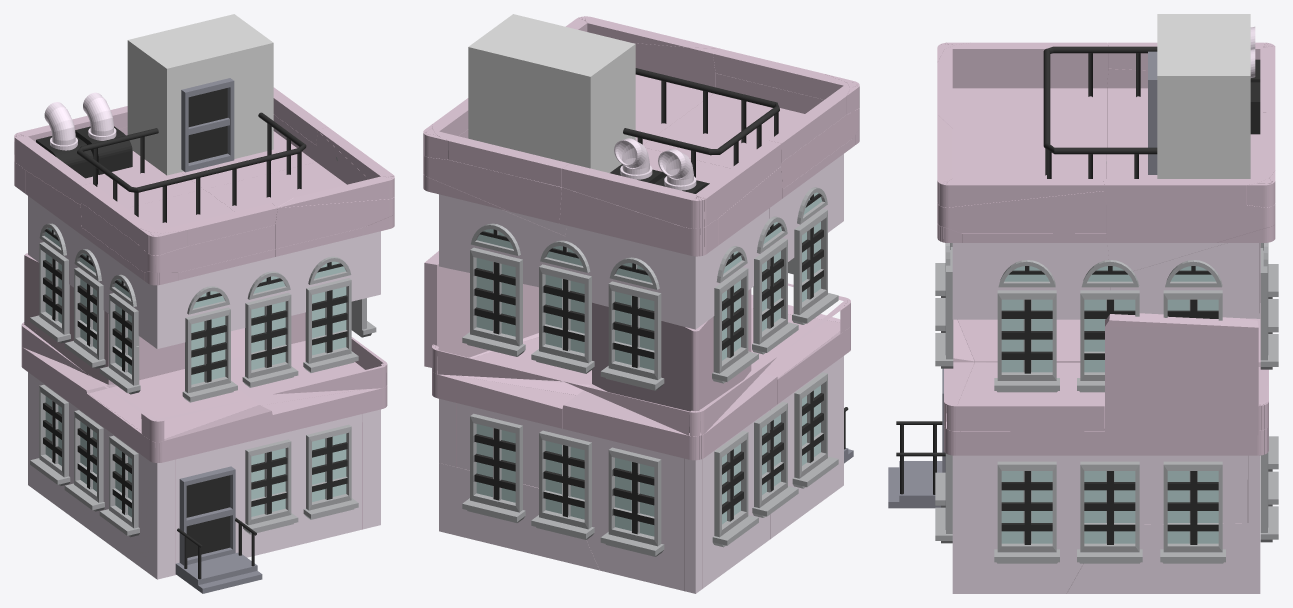
File: parcalananTekkatlbina.fbx
3 renders of one model, left to right at view 1: azimuth 30°, elevation 25°; view 2: azimuth 150°, elevation 25°; view 3: azimuth 270°, elevation 25°, orthographic. The views are drawn at different scales.
Visible parts, largest first — view 1: Cube.158, kolonlar_cell.006, kolonlar_cell.031, kolonlar_cell.063, kolonlar_cell.045, kolonlar_cell.040, kolonlar_cell.050, kolonlar_cell.033, kolonlar_cell.087, kolonlar_cell.058, kolonlar_cell.078, Cube.160 (+54 smaller); view 2: Cube.158, kolonlar_cell.033, kolonlar_cell.090, kolonlar_cell.040, kolonlar_cell.054, kolonlar_cell.006, kolonlar_cell.084, kolonlar_cell.078, kolonlar_cell.002, kolonlar_cell.047, kolonlar_cell.098, kolonlar_cell.031 (+48 smaller); view 3: kolonlar_cell.058, kolonlar_cell.056, Cube.158, kolonlar_cell.040, kolonlar_cell.031, kolonlar_cell.087, kolonlar_cell.023, kolonlar_cell.002, kolonlar_cell.079, kolonlar_cell.015, kolonlar_cell.028, kolonlar_cell.098 (+41 smaller).
Part boxes in pixels (x1,y1,x2,y2): Cube.158: (127, 14, 273, 175); kolonlar_cell.006: (88, 369, 258, 579); kolonlar_cell.031: (205, 131, 394, 248); kolonlar_cell.063: (261, 387, 384, 552); kolonlar_cell.045: (81, 227, 275, 348); kolonlar_cell.040: (80, 189, 275, 272); kolonlar_cell.050: (161, 405, 272, 574); kolonlar_cell.033: (25, 126, 203, 287); kolonlar_cell.087: (269, 227, 380, 315); kolonlar_cell.058: (231, 341, 380, 529); kolonlar_cell.078: (22, 347, 116, 532); Cube.160: (175, 466, 262, 593); Cube.158: (468, 14, 635, 172); kolonlar_cell.033: (559, 148, 782, 329); kolonlar_cell.090: (562, 384, 690, 590); kolonlar_cell.040: (643, 73, 859, 189); kolonlar_cell.054: (592, 288, 751, 432); kolonlar_cell.006: (751, 308, 843, 538); kolonlar_cell.084: (434, 373, 576, 487); kolonlar_cell.078: (700, 370, 777, 588); kolonlar_cell.002: (439, 463, 599, 570); kolonlar_cell.047: (426, 177, 565, 287); kolonlar_cell.098: (713, 48, 850, 161); kolonlar_cell.031: (633, 43, 719, 144); kolonlar_cell.058: (952, 362, 1104, 593); kolonlar_cell.056: (1105, 313, 1258, 435); Cube.158: (1157, 14, 1250, 178); kolonlar_cell.040: (952, 68, 1108, 160); kolonlar_cell.031: (937, 115, 1106, 233); kolonlar_cell.087: (952, 164, 1110, 319); kolonlar_cell.023: (1106, 153, 1275, 271); kolonlar_cell.002: (1066, 523, 1260, 593); kolonlar_cell.079: (1104, 431, 1259, 524); kolonlar_cell.015: (1110, 228, 1267, 318); kolonlar_cell.028: (1103, 112, 1275, 204); kolonlar_cell.098: (937, 42, 1108, 115).
Size of the model in its own units: 495 by 803 by 562.
